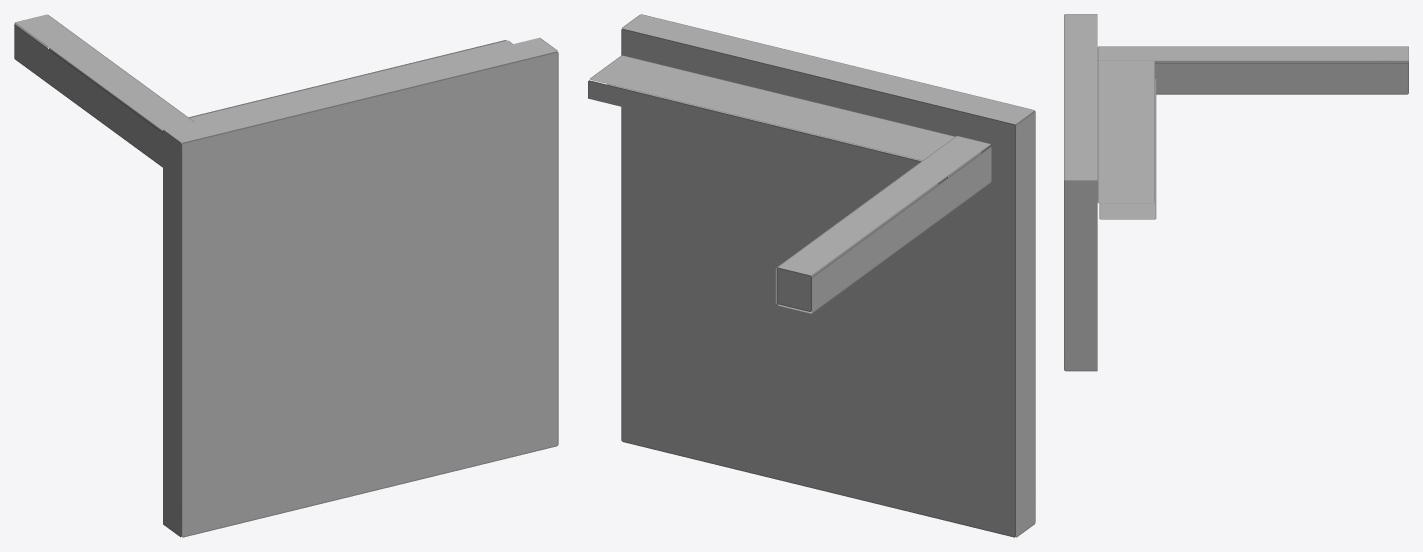
The model's file is pz_table_tables_high_02_large_dark_0_1.obj.
3 views of the same model, side by side, from view 1: azimuth 30°, elevation 25°; view 2: azimuth 150°, elevation 25°; view 3: azimuth 270°, elevation 25° (orthographic). The views are drawn at different scales.
Bounding box in the file's own units: 0.875 × 0.875 × 0.7655.
1 material, 1 textured.
